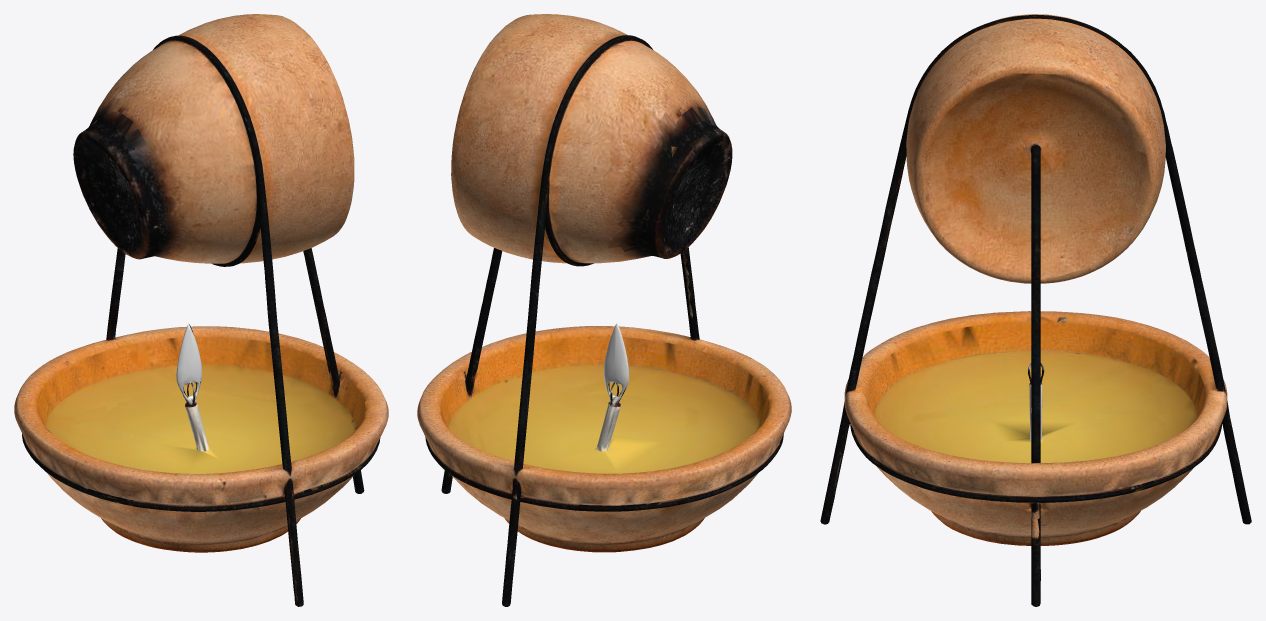
The model's file is inklamp.glb.
3 renders of one model, left to right at view 1: azimuth 30°, elevation 25°; view 2: azimuth 150°, elevation 25°; view 3: azimuth 270°, elevation 25°, orthographic. The views are drawn at different scales.
Parts seen in each view (by area): view 1: tg_inklamp; view 2: tg_inklamp; view 3: tg_inklamp.
Boxes of the visible parts, left/top/right/bottom form: tg_inklamp: left=14, top=14, right=388, bottom=606; tg_inklamp: left=417, top=14, right=791, bottom=606; tg_inklamp: left=820, top=14, right=1251, bottom=606.
Size of the model in its own units: 0.6854 by 1 by 0.7579.
1 material, 1 textured.
